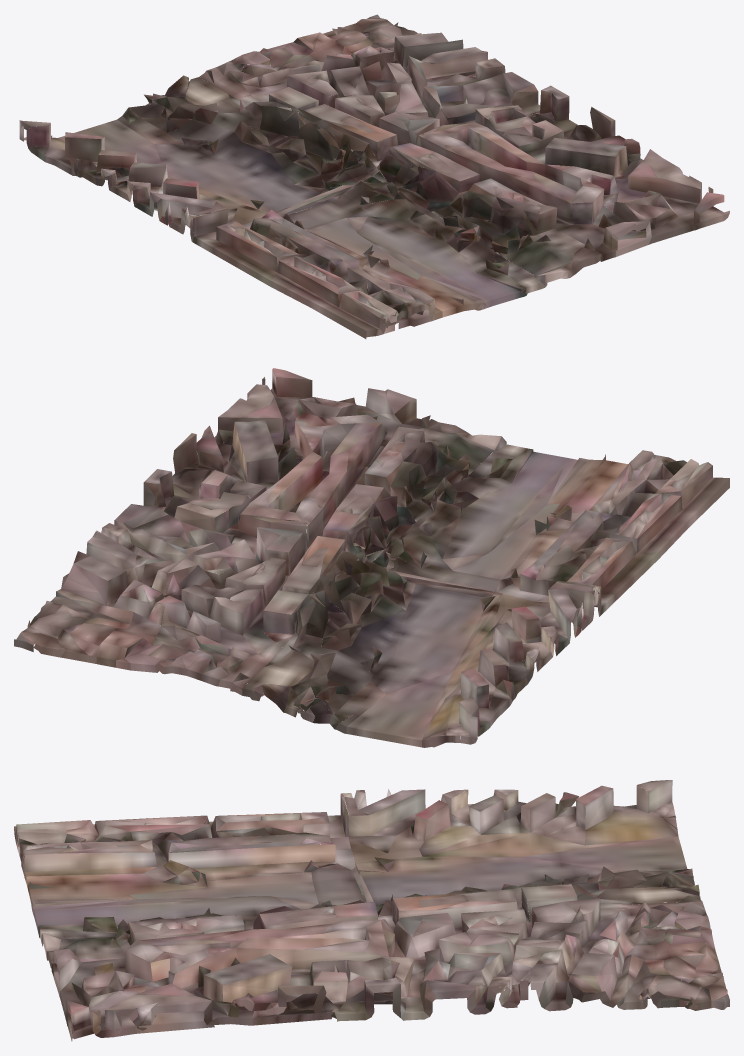
The picture shows the model from 3 angles, top to bottom: view 1: azimuth 30°, elevation 25°; view 2: azimuth 150°, elevation 25°; view 3: azimuth 270°, elevation 25°; orthographic projection. The views are drawn at different scales.
Parts seen in each view (by area): view 1: Mesh_0; view 2: Mesh_0; view 3: Mesh_0.
Boxes of the visible parts, <box> form: Mesh_0: <box>19,14,729,338</box>; Mesh_0: <box>14,368,729,747</box>; Mesh_0: <box>14,780,729,1041</box>.
Size of the model in its own units: 547 by 69.29 by 659.
Materials: 2 (2 with a texture image).
